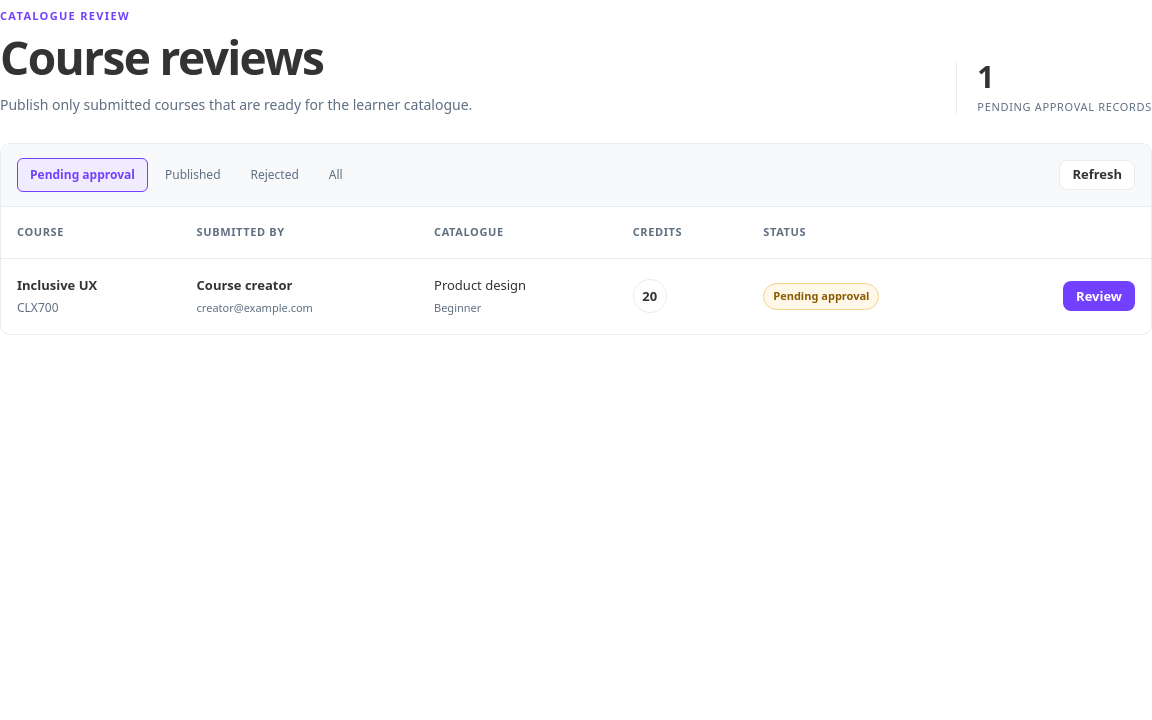
Test: AdminCourseReviewsPage material and interest summary › lists the trainers on the course with their roster status
Click the button "Review": point(1099, 296) [1063,281,1135,311]
(page scrolled)
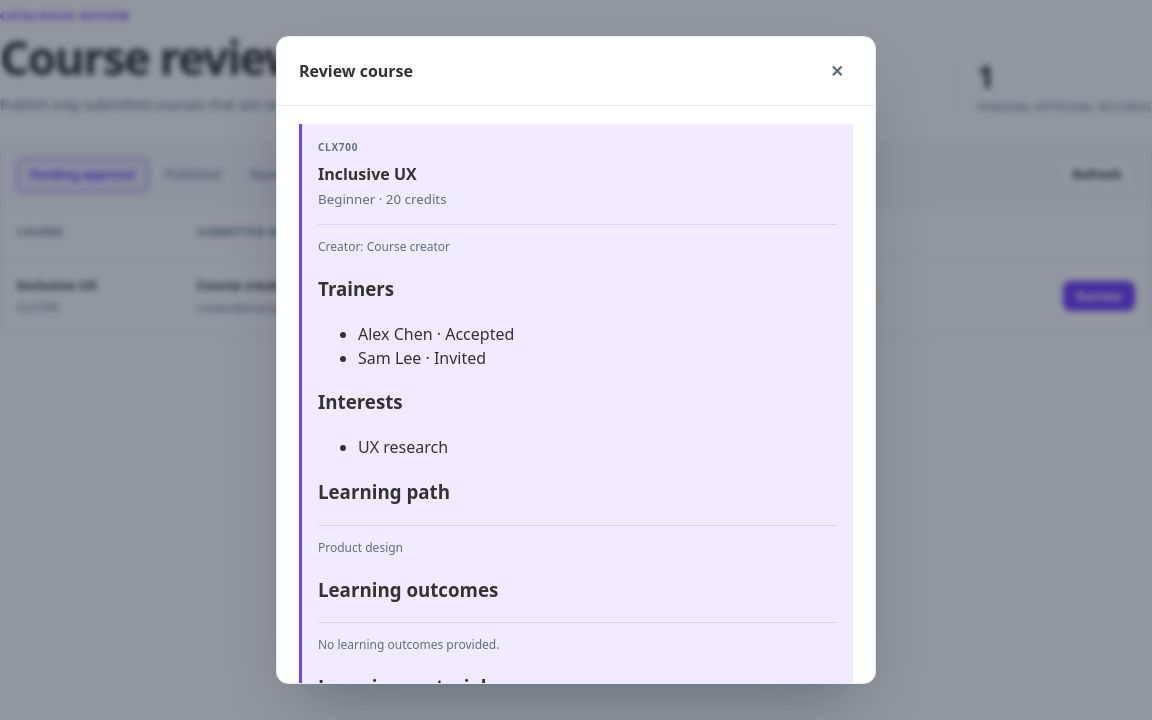
expect the list named "Trainers" shows "Alex Chen · Accepted": met, box [358,323,514,369]
expect the list named "Trainers" shows "Sam Lee · Invited": met, box [358,323,514,369]
